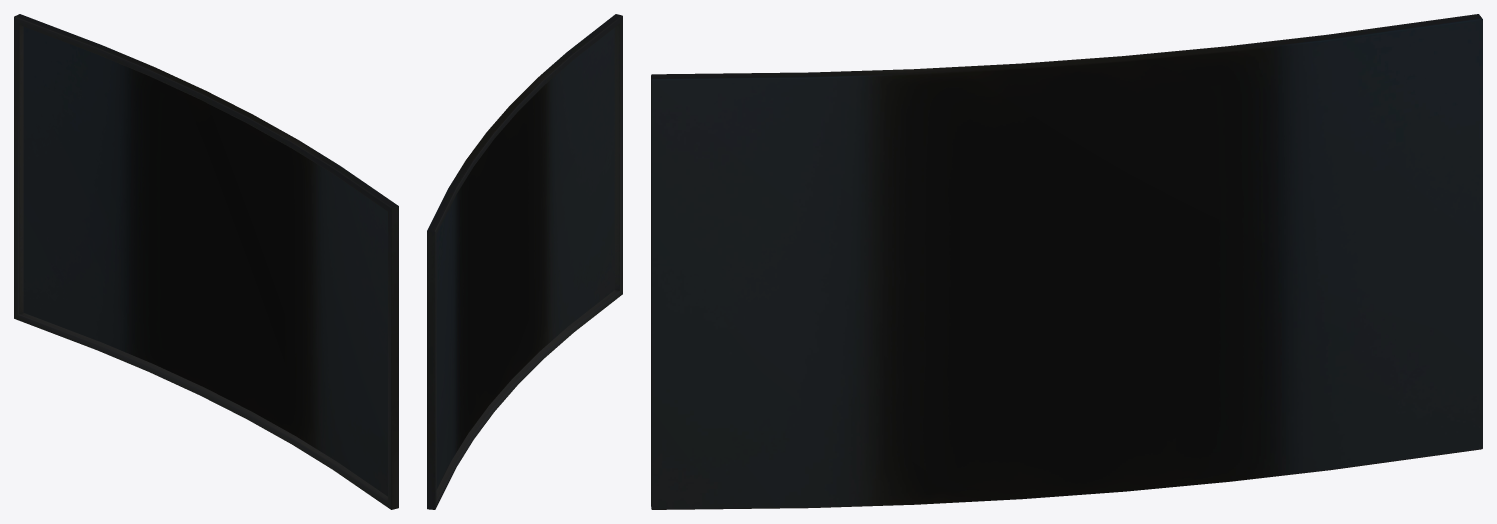
The model's file is TV Bound.glb.
3 views of the same model, side by side, from view 1: azimuth 30°, elevation 25°; view 2: azimuth 150°, elevation 25°; view 3: azimuth 270°, elevation 25° (orthographic). The views are drawn at different scales.
Visible parts, largest first — view 1: TV Bound.001; view 2: TV Bound.001; view 3: TV Bound.001.
Boxes of the visible parts, x1,y1,x2,y2 form: TV Bound.001: (14, 14, 398, 509); TV Bound.001: (427, 14, 622, 509); TV Bound.001: (651, 14, 1482, 509).
Bounding box in the file's own units: 0.8444 × 2.57 × 4.5.
1 material, 1 textured.
